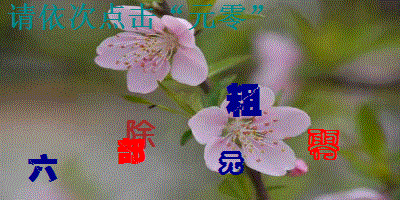text: (224, 81, 264, 118), (305, 126, 342, 162), (25, 151, 60, 183), (125, 119, 158, 152), (115, 136, 148, 165), (216, 149, 246, 175)
